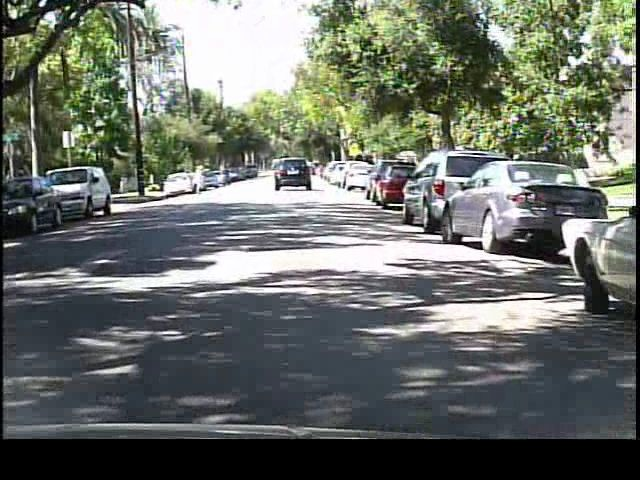person: (188, 161, 207, 200)
